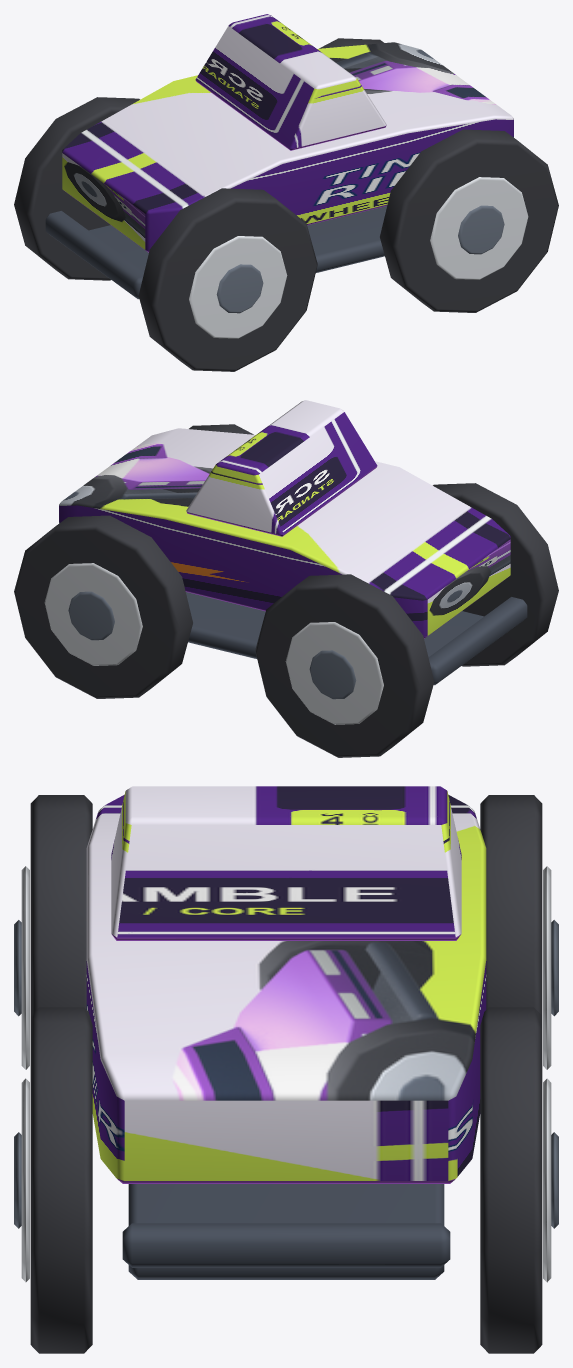
3 views of the same model, one above another, from view 1: azimuth 30°, elevation 25°; view 2: azimuth 150°, elevation 25°; view 3: azimuth 270°, elevation 25° (orthographic). The views are drawn at different scales.
Parts seen in each view (by area): view 1: BW-05_connected_shell, Tire, Tire.002, BW-05_cabin, Tire.001, Rim.002, Rim, underbody, front bumper, Hub, Hub.002; view 2: BW-05_connected_shell, Tire.001, Tire.003, BW-05_cabin, Tire, Rim.003, Rim.001, underbody, front bumper, Hub.001, Hub.003; view 3: BW-05_connected_shell, BW-05_cabin, Tire.002, Tire.003, underbody, rear bumper, Tire, Tire.001, Rim, Rim.001, Rim.002, Rim.003 (+4 smaller).
Boxes of the visible parts, bbox=[...] form: BW-05_connected_shell: bbox=[62, 42, 513, 252]; Tire: bbox=[138, 188, 317, 371]; Tire.002: bbox=[380, 129, 558, 312]; BW-05_cabin: bbox=[195, 14, 386, 150]; Tire.001: bbox=[14, 97, 139, 280]; Rim.002: bbox=[430, 177, 528, 279]; Rim: bbox=[189, 236, 287, 338]; underbody: bbox=[89, 206, 386, 272]; front bumper: bbox=[45, 211, 144, 299]; Hub: bbox=[216, 264, 263, 313]; Hub.002: bbox=[458, 205, 504, 254]; BW-05_connected_shell: bbox=[59, 428, 510, 638]; Tire.001: bbox=[255, 574, 434, 757]; Tire.003: bbox=[14, 515, 192, 698]; BW-05_cabin: bbox=[186, 400, 377, 536]; Tire: bbox=[433, 483, 558, 666]; Rim.003: bbox=[44, 563, 142, 665]; Rim.001: bbox=[285, 622, 383, 724]; underbody: bbox=[186, 592, 483, 658]; front bumper: bbox=[428, 597, 527, 685]; Hub.001: bbox=[309, 650, 356, 699]; Hub.003: bbox=[68, 591, 114, 640]; BW-05_connected_shell: bbox=[86, 795, 486, 1183]; BW-05_cabin: bbox=[111, 786, 461, 940]; Tire.002: bbox=[30, 1007, 92, 1353]; Tire.003: bbox=[480, 1007, 542, 1353]; underbody: bbox=[128, 1184, 444, 1279]; rear bumper: bbox=[122, 1223, 450, 1267]; Tire: bbox=[30, 795, 92, 1015]; Tire.001: bbox=[480, 795, 542, 1015]; Rim: bbox=[21, 866, 29, 1069]; Rim.001: bbox=[543, 866, 551, 1069]; Rim.002: bbox=[21, 1078, 29, 1282]; Rim.003: bbox=[543, 1078, 551, 1282].
Bounding box in the file's own units: 357 × 202 × 229.
